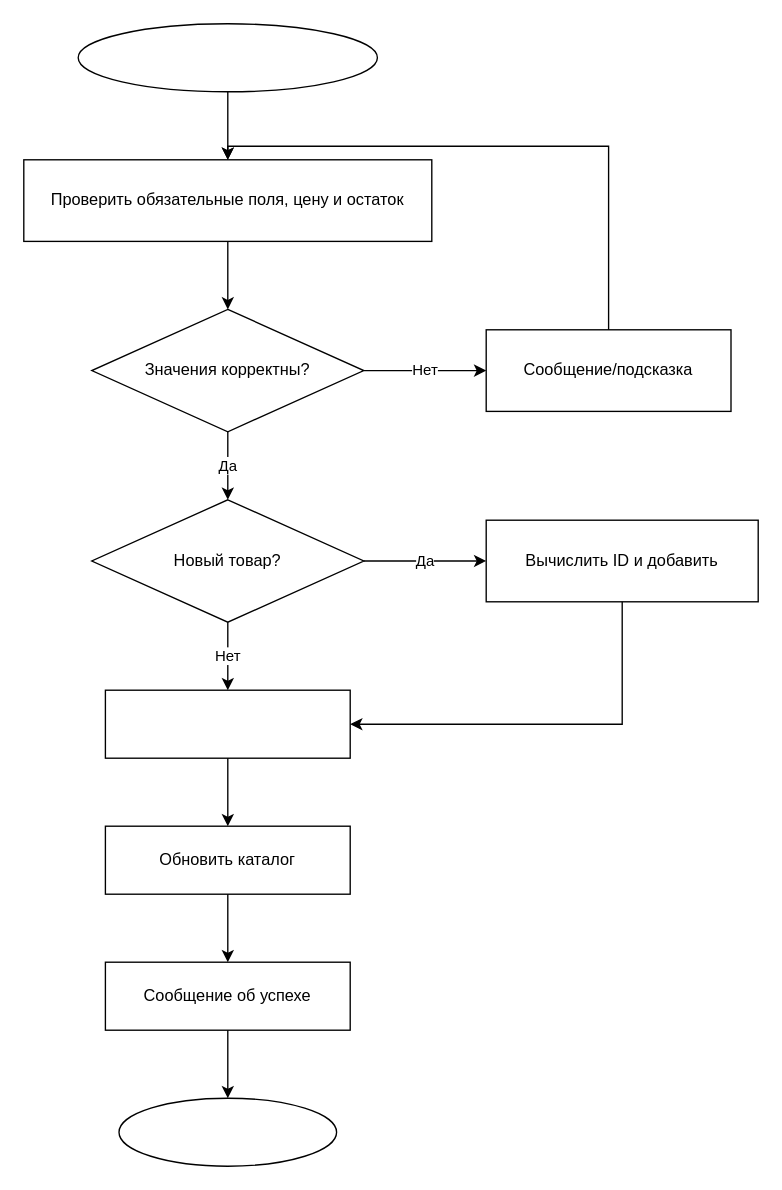
Image size: 782x1190. Some labels were removed from this diagram. The shapes that lost their labels are listed below. From the top down, each one's centre as x and y in pixels, then its label:
At [227,57]: "Начало: форма заполнена".
At [227,723]: "Обновить запись".
At [227,1131]: "Конец".
